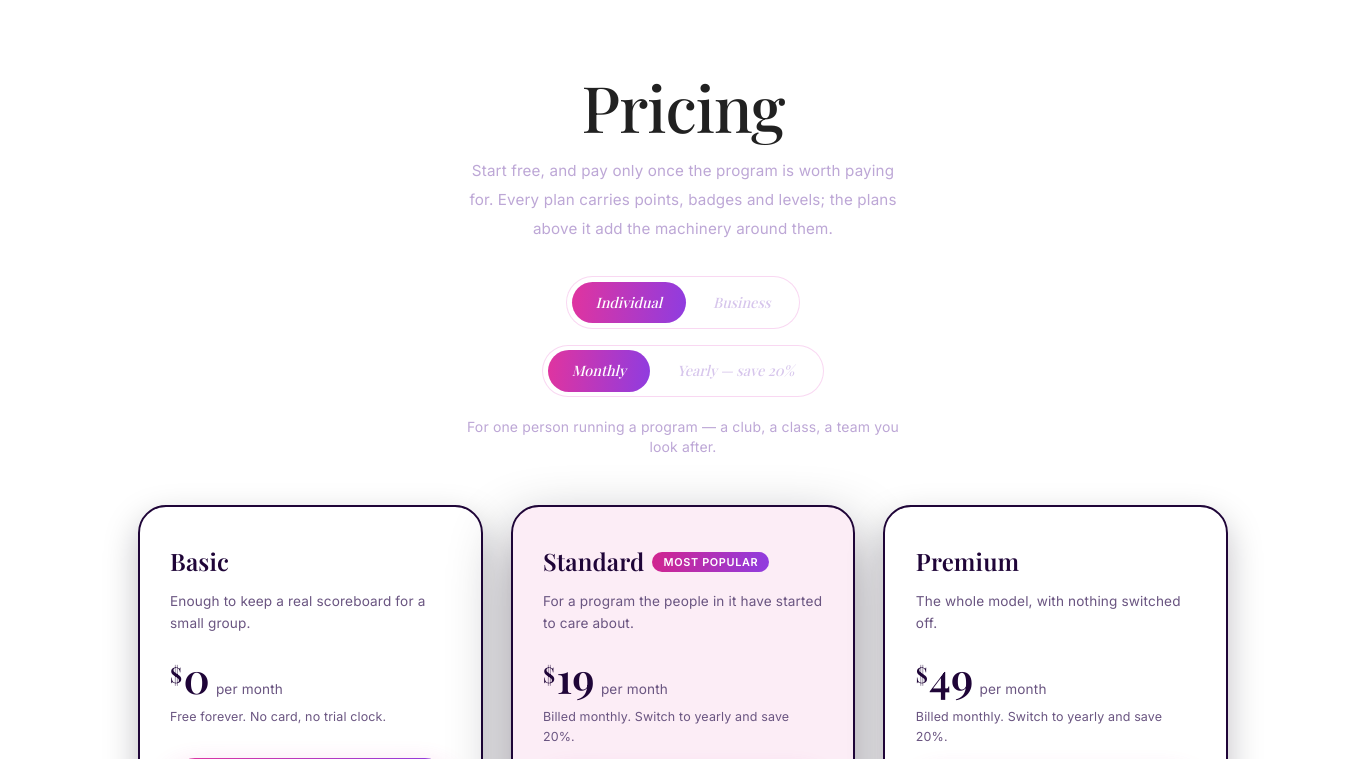
Test case: how often you pay › shows the discounted price when a year is chosen
This screenshot has width=1366, height=759.
Step 1. Click the button "Yearly — save 20%" → (736, 371), box [653,350,818,392]
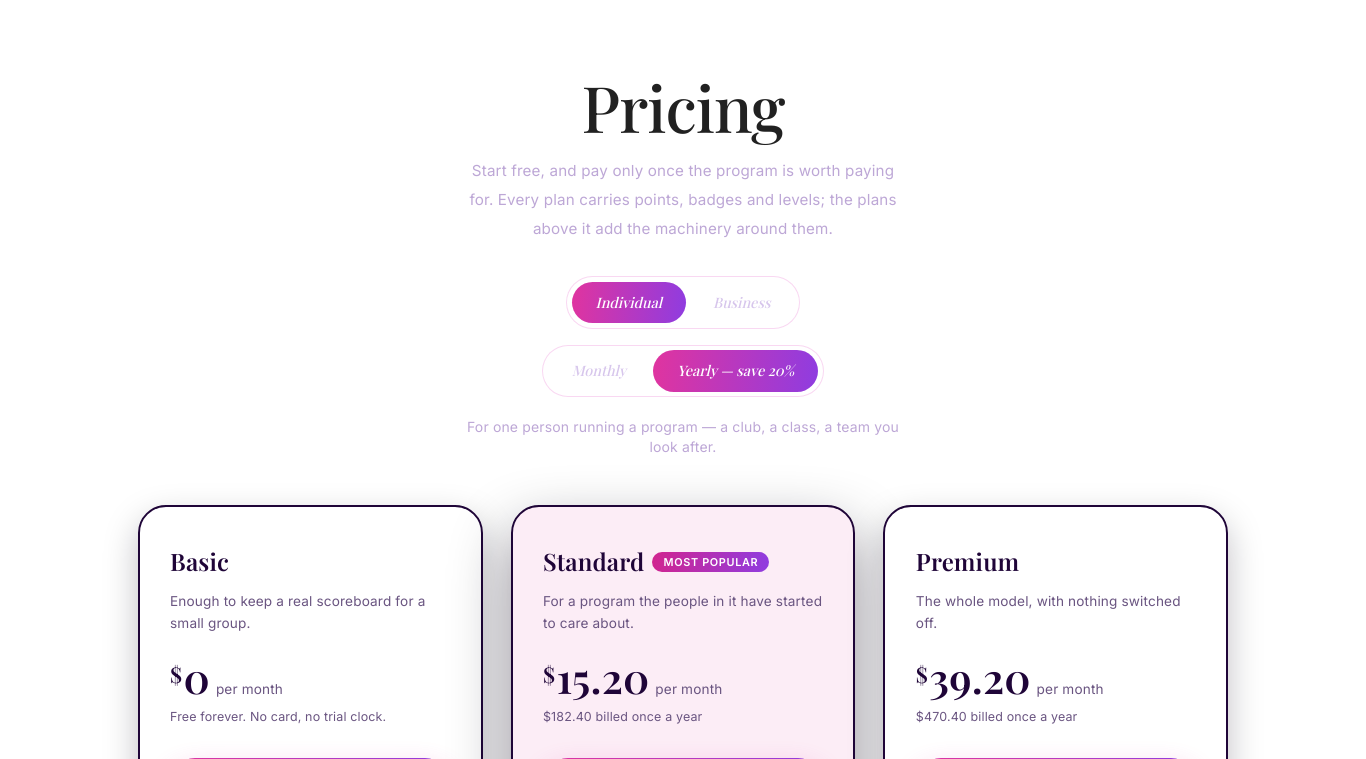
expect the text "15.20" is shown: met, box [556,650,649,704]
